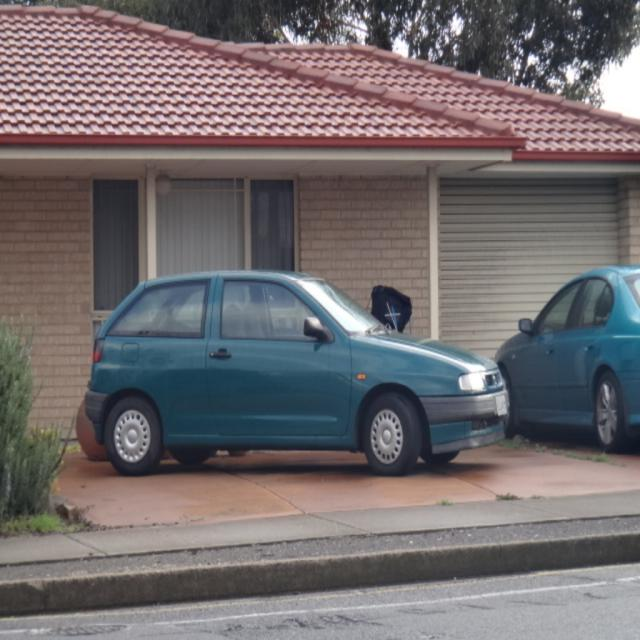car: (83, 268, 511, 475)
